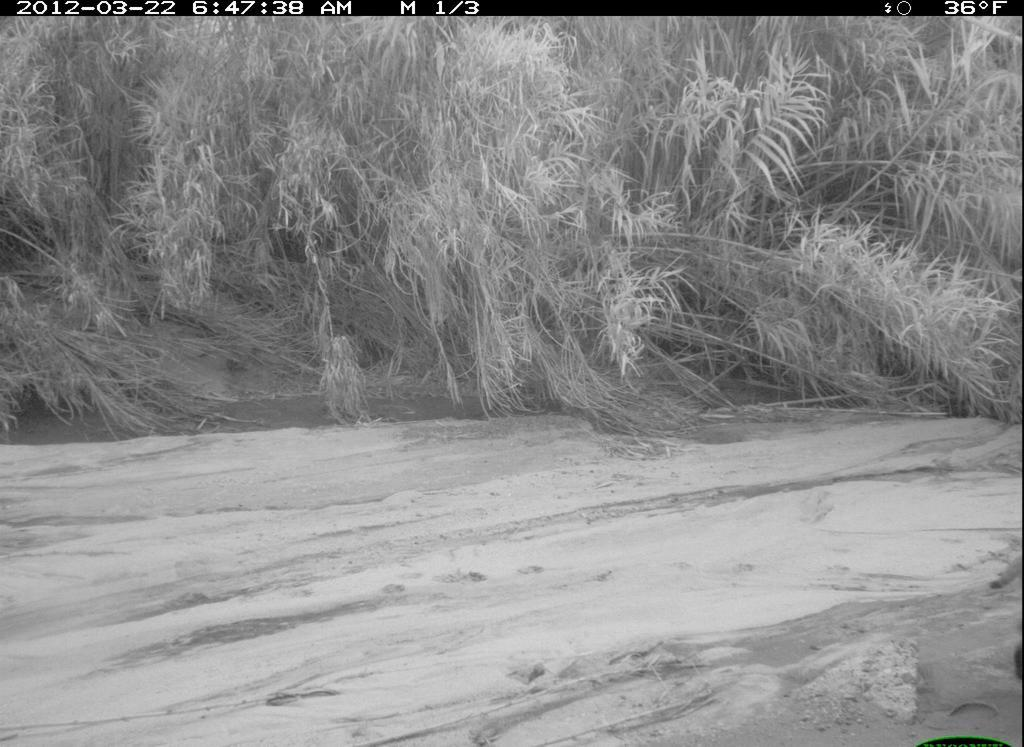bobcat: (989, 550, 1024, 687)
